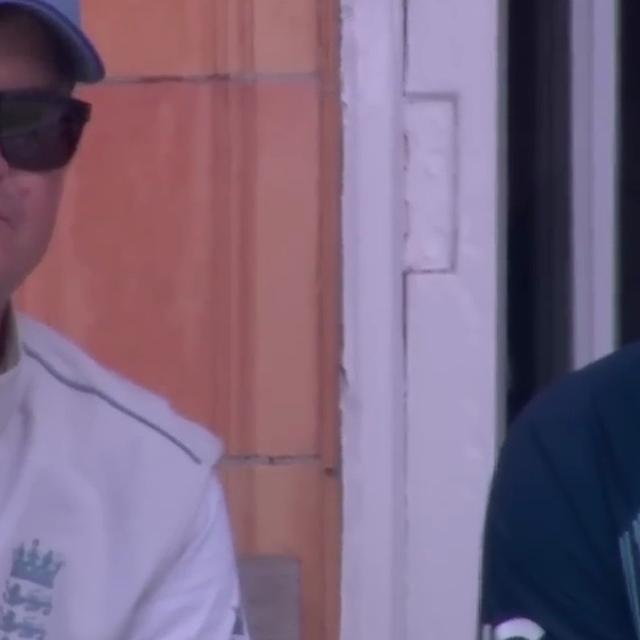person: (0, 0, 283, 640)
